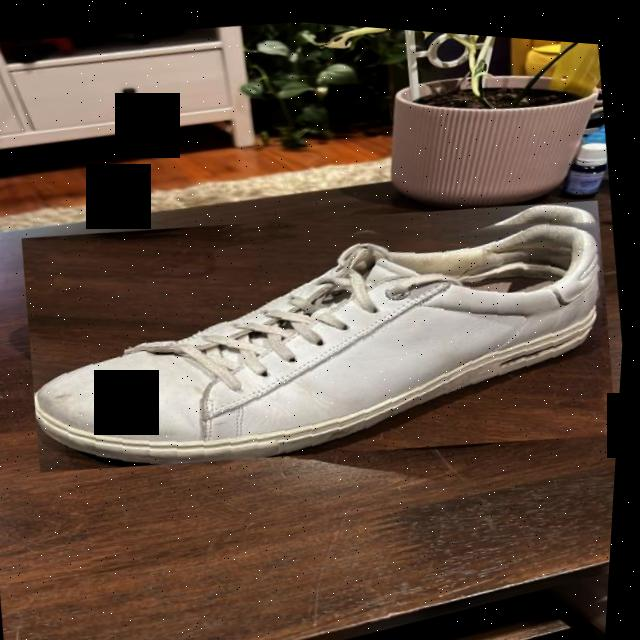shoe: (14, 158, 632, 505)
